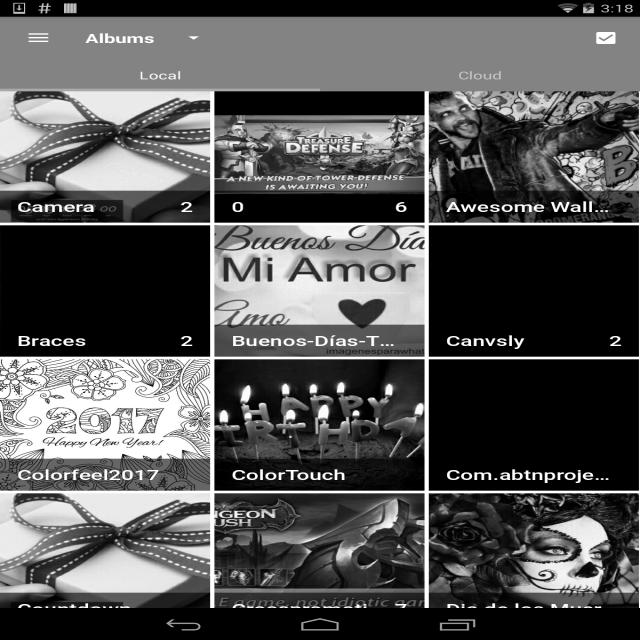CheckedTextView: (0, 59, 320, 92), (320, 59, 640, 92)
ImageButton: (9, 19, 68, 57)
ImageView: (0, 91, 210, 223), (214, 91, 424, 223), (429, 91, 639, 223), (0, 225, 210, 357), (214, 225, 424, 357), (429, 225, 639, 357), (0, 359, 210, 491), (214, 359, 424, 491), (429, 359, 639, 491), (0, 493, 210, 625), (214, 493, 424, 625), (429, 493, 639, 625)
TextView: (17, 458, 191, 491), (232, 458, 406, 491), (446, 458, 620, 491), (446, 190, 620, 222), (232, 324, 406, 356), (17, 592, 191, 624), (446, 592, 620, 624), (17, 190, 178, 222), (17, 324, 178, 356), (446, 324, 607, 356), (232, 190, 392, 222), (232, 592, 392, 624), (68, 27, 182, 49), (580, 22, 632, 54), (394, 190, 408, 222), (394, 592, 408, 624), (180, 190, 193, 222), (180, 324, 193, 356), (609, 324, 622, 356)
